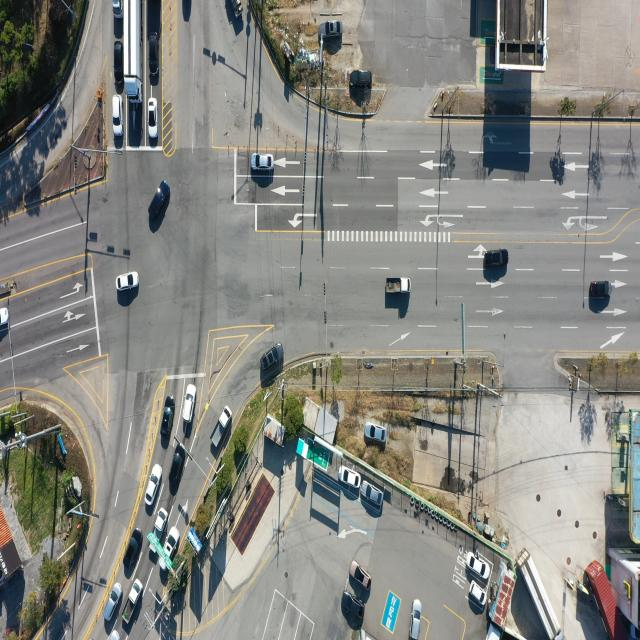car: (342, 592, 366, 631), (169, 444, 185, 494), (162, 526, 181, 568), (145, 463, 162, 507), (125, 528, 144, 567), (104, 581, 122, 621), (262, 343, 285, 373), (148, 189, 168, 223), (468, 553, 491, 580), (351, 561, 372, 589), (162, 404, 175, 449), (149, 34, 160, 85), (183, 384, 196, 423), (340, 465, 362, 488), (361, 484, 383, 507), (411, 600, 423, 640), (470, 582, 488, 607), (116, 272, 138, 292), (319, 21, 342, 40), (113, 96, 123, 138), (485, 251, 508, 269), (148, 97, 158, 138), (250, 155, 274, 172), (364, 423, 385, 442), (114, 42, 124, 80), (590, 281, 611, 298), (352, 69, 372, 86), (0, 307, 9, 328)
medium_truck: (520, 546, 562, 638)
small_truck: (210, 405, 232, 449), (124, 576, 144, 623), (148, 507, 168, 548), (384, 278, 408, 295), (231, 0, 242, 21), (113, 0, 122, 20)
